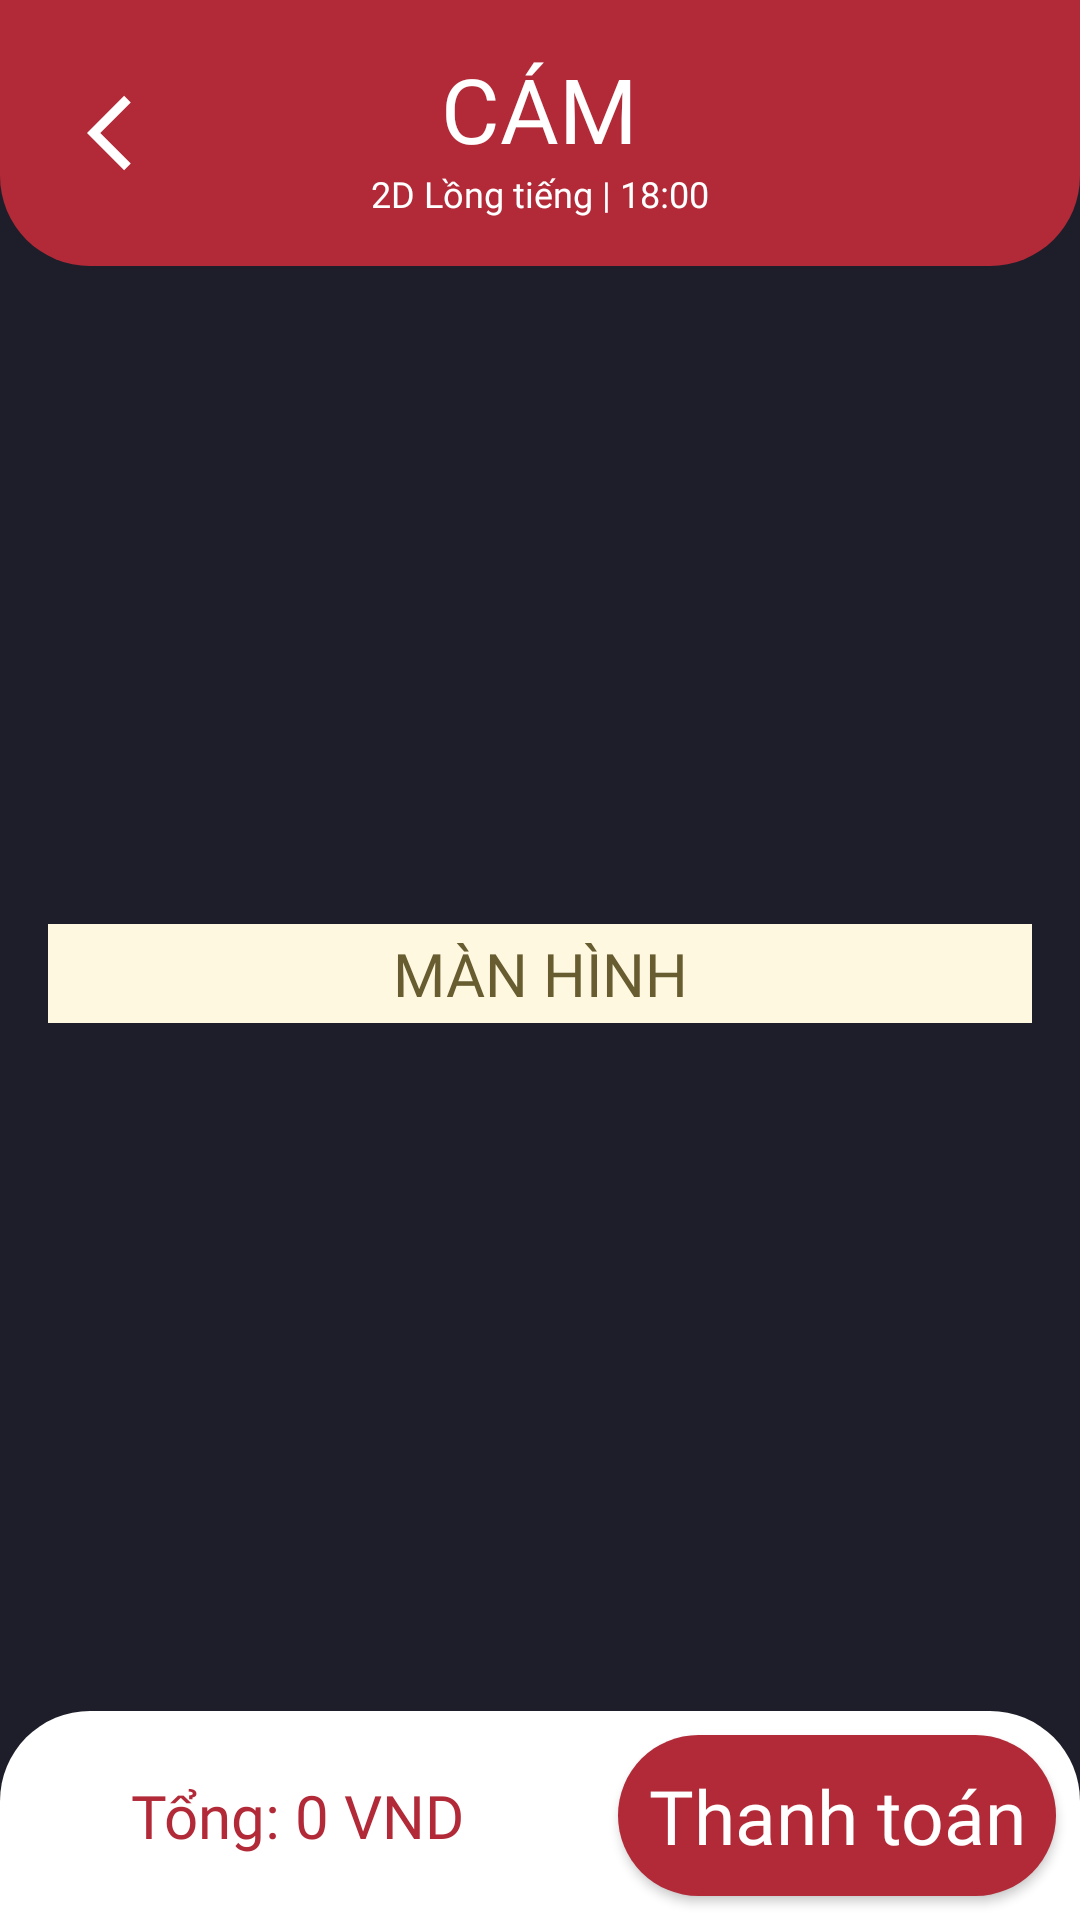

Screen size 1080x1920. Icon name, then its box in pixels as [x1,y1,x2,y2]:
back arrow: [87,96,131,170]
